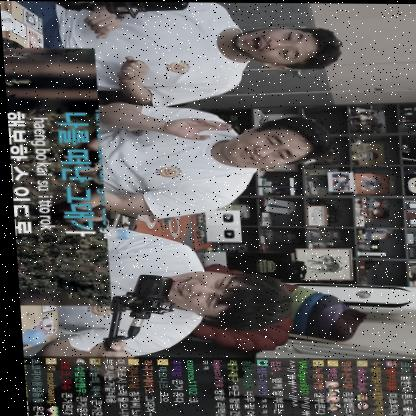streamer: (19, 225, 291, 379), (0, 0, 346, 106), (96, 102, 335, 219)
